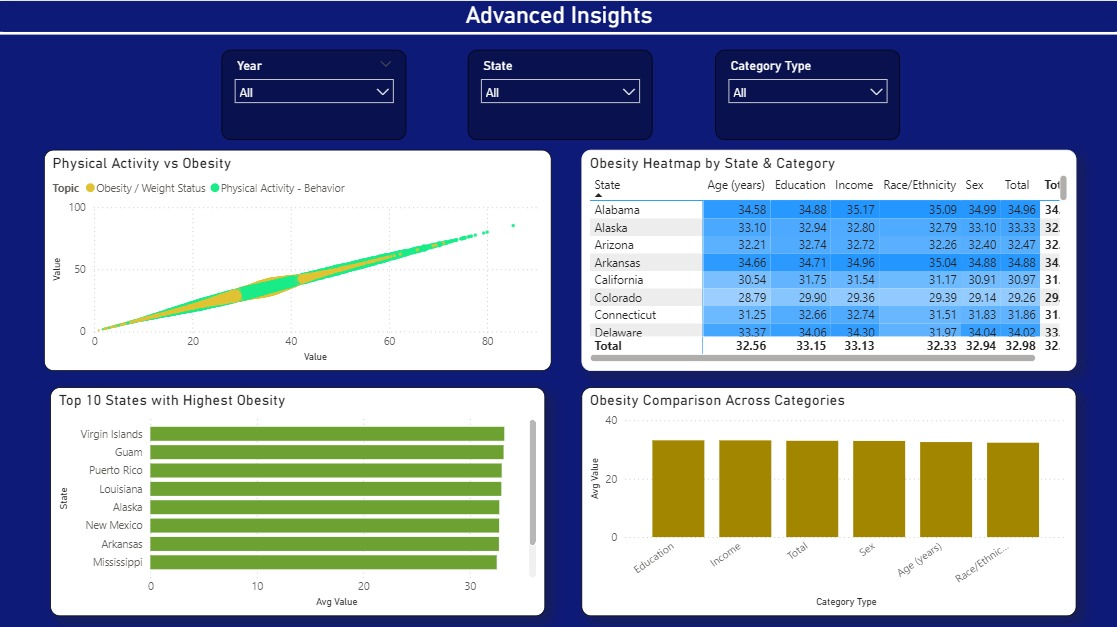

The dashboard page shown, as its layout file describes it:
{"tool":"powerbi","page":{"name":"Advanced Insights","canvas":[1280,720],"ordinal":2},"visuals":[{"type":"textbox","title":"Advanced Insights","box":[0,0,1280,38.5],"z":0},{"type":"slicer","fields":{"Values":["HealthData.Year"]},"box":[254.6,56,211.2,103.5],"z":1000},{"type":"slicer","fields":{"Values":["HealthData.State"]},"box":[535.8,56,211.2,103.5],"z":2000},{"type":"slicer","fields":{"Values":["HealthData.Category Type"]},"box":[818.4,56,211.2,103.5],"z":3000},{"type":"scatterChart","title":"Physical Activity  vs  Obesity","fields":{"X":["HealthData.Value"],"Y":["HealthData.Value"],"Series":["HealthData.Topic"],"Size":["Sum(HealthData.Value)1"]},"box":[68.4,172.5,524.5,253.7],"z":4000},{"type":"pivotTable","title":"Obesity Heatmap by State & Category","fields":{"Rows":["HealthData.State"],"Columns":["HealthData.Category Type"],"Values":["HealthData.Avg Value"]},"box":[662.8,172.5,521.7,243.7],"z":5000},{"type":"clusteredBarChart","title":"Top 10 States with Highest Obesity","fields":{"Category":["HealthData.State"],"Y":["HealthData.Avg Value"]},"box":[68.4,459,520.3,260.8],"z":6000},{"type":"clusteredColumnChart","title":"Obesity Comparison Across Categories","fields":{"Category":["HealthData.Category Type"],"Y":["HealthData.Avg Value"]},"box":[662.8,467.5,521.7,243.7],"z":7000}]}

Visuals, with their boxes in screenshot pixels (x1, y1, x2, y2), scaled from the page's 1280x720 canvas onto the 1117x627 screenshot:
"Advanced Insights" textbox: crop(0, 0, 1116, 34)
slicer - HealthData.Year: crop(222, 49, 406, 139)
slicer - HealthData.State: crop(468, 49, 652, 139)
slicer - HealthData.Category Type: crop(714, 49, 898, 139)
"Physical Activity  vs  Obesity" scatterChart: crop(60, 150, 517, 371)
"Obesity Heatmap by State & Category" pivotTable: crop(578, 150, 1034, 362)
"Top 10 States with Highest Obesity" clusteredBarChart: crop(60, 400, 514, 626)
"Obesity Comparison Across Categories" clusteredColumnChart: crop(578, 407, 1034, 619)
